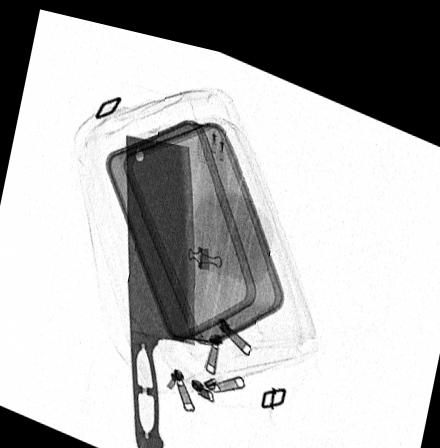Knife: (123, 127, 195, 448)
